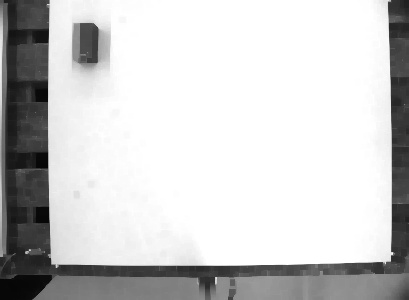b3: (69, 21, 101, 65)
